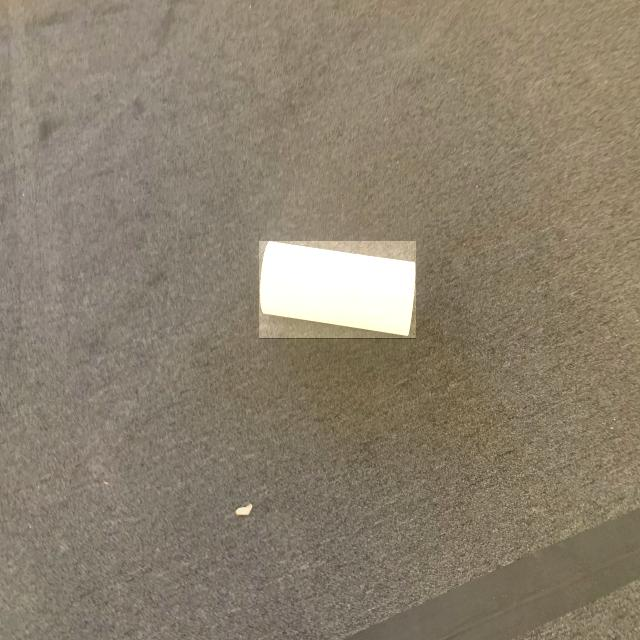Coral: (259, 242, 416, 340)
